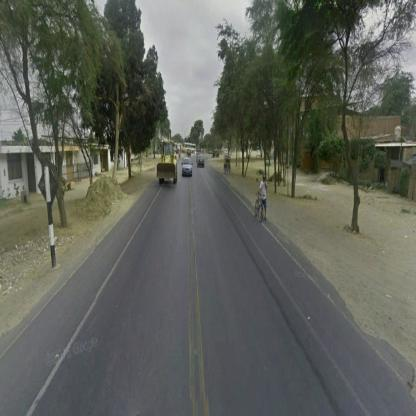Peaton: (260, 175, 269, 222)
Pista: (33, 167, 367, 414)
Vehiculo: (158, 131, 178, 186), (181, 158, 194, 176), (199, 155, 205, 169)
